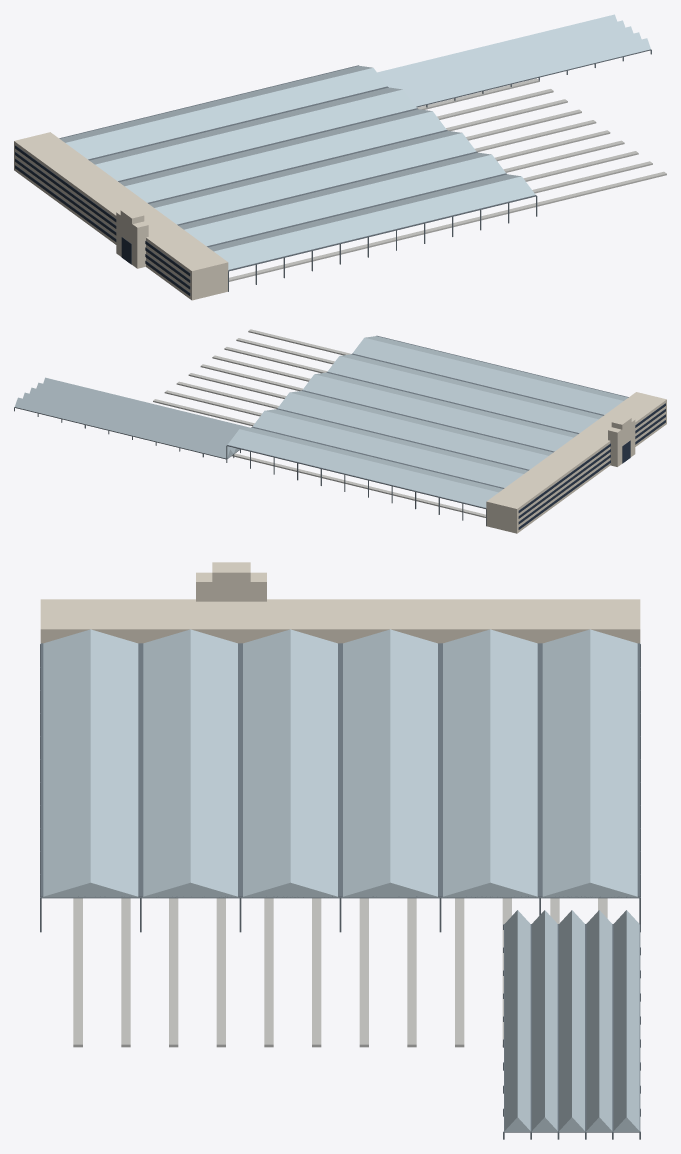
Rendered from terminal_waterloo.glb.
3 views of the same model, one above another, from view 1: azimuth 30°, elevation 25°; view 2: azimuth 150°, elevation 25°; view 3: azimuth 270°, elevation 25° (orthographic). The views are drawn at different scales.
Parts seen in each view (by area): view 1: waterloo; view 2: waterloo; view 3: waterloo.
Boxes of the visible parts, bbox=[...] form: waterloo: bbox=[14, 14, 666, 300]; waterloo: bbox=[14, 329, 666, 533]; waterloo: bbox=[40, 562, 640, 1139].
Bounding box in the file's own units: 433 × 32 × 221.
